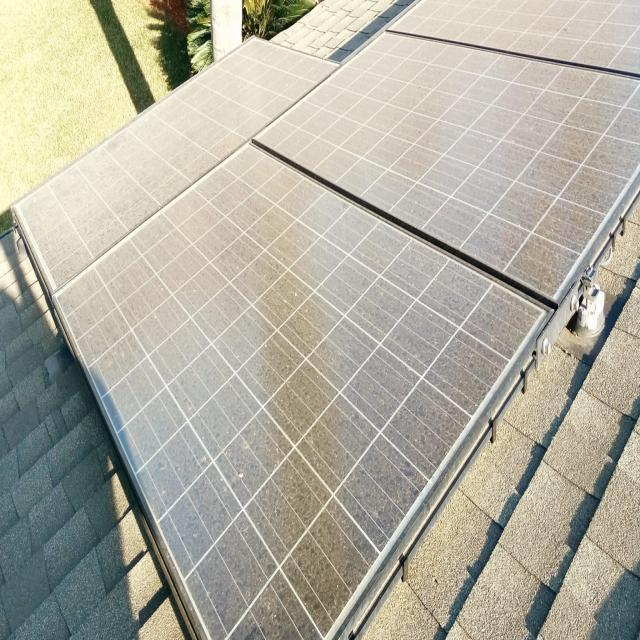Anomaly Solar Panel: (47, 143, 546, 637), (250, 0, 639, 300), (10, 34, 339, 284)
Surface Contaminant: (55, 151, 538, 639), (259, 0, 639, 293), (18, 34, 334, 283)
